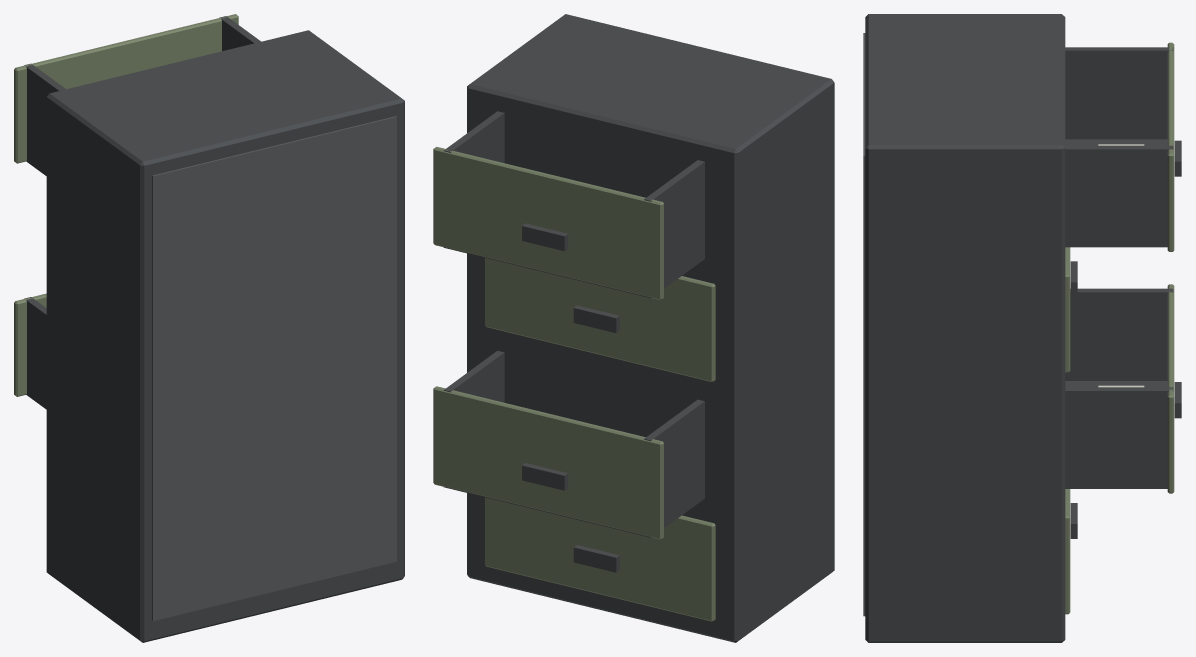
The model's file is file_cabinet_open.glb.
3 views of the same model, side by side, from view 1: azimuth 30°, elevation 25°; view 2: azimuth 150°, elevation 25°; view 3: azimuth 270°, elevation 25° (orthographic). The views are drawn at different scales.
Visible parts, largest first — view 1: file_cabinet_open; view 2: file_cabinet_open; view 3: file_cabinet_open.
Boxes of the visible parts, bbox=[...] form: file_cabinet_open: bbox=[14, 14, 404, 642]; file_cabinet_open: bbox=[433, 14, 834, 642]; file_cabinet_open: bbox=[863, 14, 1181, 642].
Size of the model in its own units: 0.76 by 1.32 by 0.765.
